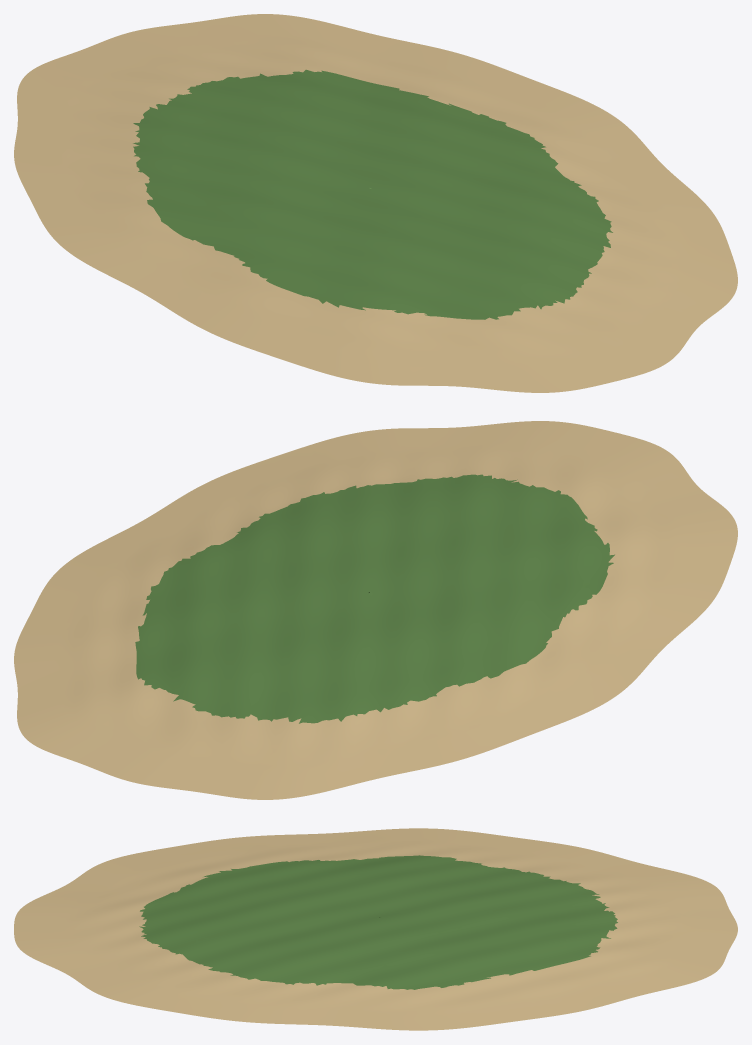
Rendered from Sunbeam_Island_LOD2.glb.
3 renders of one model, top to bottom at view 1: azimuth 30°, elevation 25°; view 2: azimuth 150°, elevation 25°; view 3: azimuth 270°, elevation 25°, orthographic. The views are drawn at different scales.
Parts seen in each view (by area): view 1: Sunbeam_Island_GameMesh; view 2: Sunbeam_Island_GameMesh; view 3: Sunbeam_Island_GameMesh.
Part boxes in pixels (bbox=[...]): Sunbeam_Island_GameMesh: bbox=[14, 14, 737, 392]; Sunbeam_Island_GameMesh: bbox=[14, 421, 737, 799]; Sunbeam_Island_GameMesh: bbox=[14, 828, 737, 1030].
Size of the model in its own units: 130 by 3.89 by 196.
